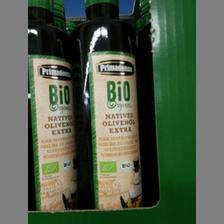Oel: (72, 0, 148, 206), (27, 0, 81, 208)
